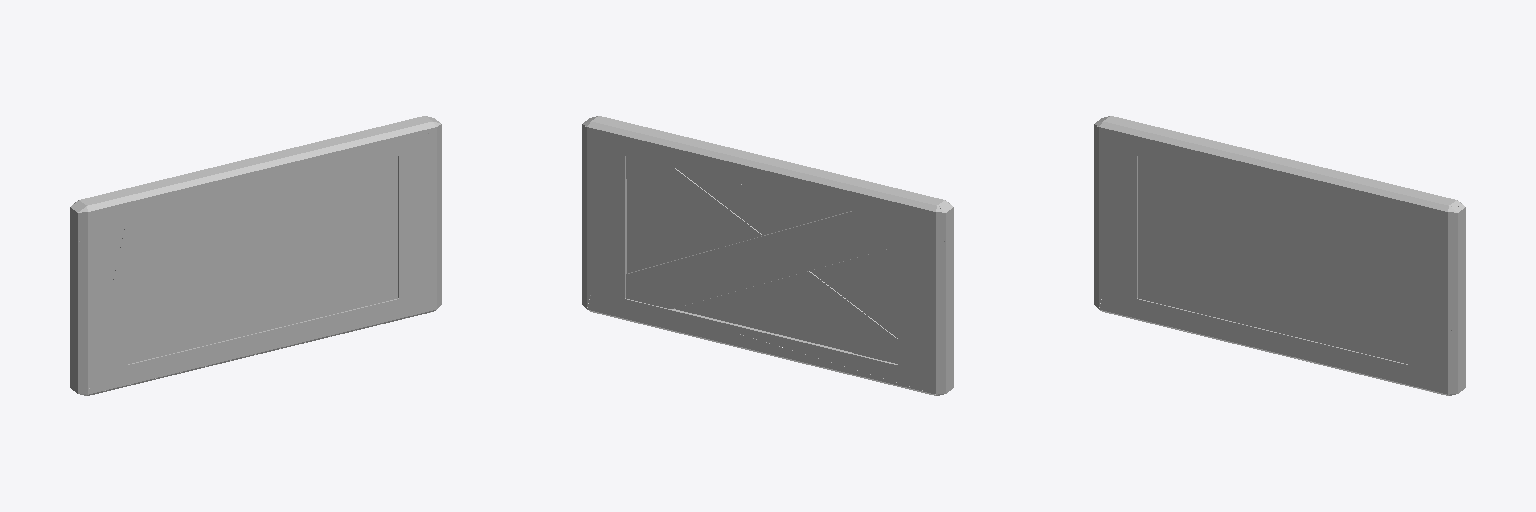
Rendered from CollisionMap.obj.
The picture shows the model from 3 angles: view 1: azimuth 30°, elevation 25°; view 2: azimuth 150°, elevation 25°; view 3: azimuth 330°, elevation 25°; orthographic projection.
Visible parts, largest first — view 1: CollisionMap; view 2: CollisionMap; view 3: CollisionMap.
Part boxes in pixels (left/top/right/bottom): CollisionMap: left=70, top=116, right=441, bottom=395; CollisionMap: left=582, top=116, right=953, bottom=395; CollisionMap: left=1094, top=116, right=1465, bottom=395.
Bounding box in the file's own units: 1.45 × 0.72 × 0.09.